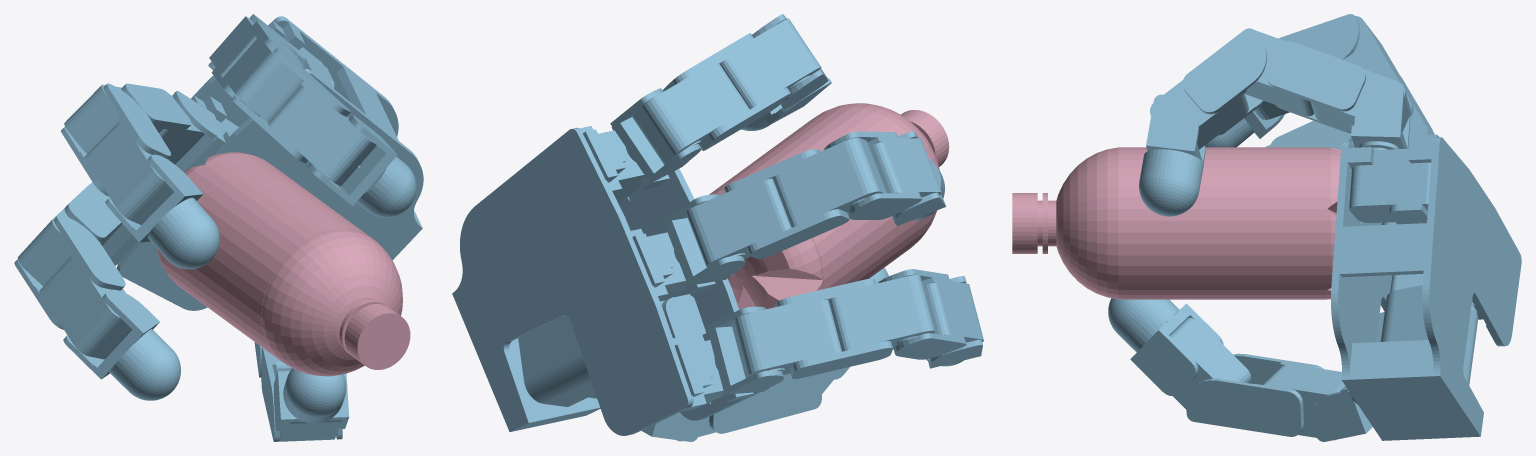
The picture shows the model from 3 angles, left to right: view 1: azimuth 30°, elevation 25°; view 2: azimuth 150°, elevation 25°; view 3: azimuth 270°, elevation 25°; orthographic projection. The views are drawn at different scales.
Visible parts, largest first — view 1: world, water_bottle.stl; view 2: world, water_bottle.stl; view 3: world, water_bottle.stl.
Boxes of the visible parts, x1,y1,x2,y2 form: world: (14, 14, 423, 441); water_bottle.stl: (156, 152, 410, 376); world: (452, 14, 983, 441); water_bottle.stl: (709, 103, 949, 309); world: (1108, 14, 1521, 441); water_bottle.stl: (1012, 147, 1340, 299).
Size of the model in its own units: 0.189 by 0.1651 by 0.2013.
